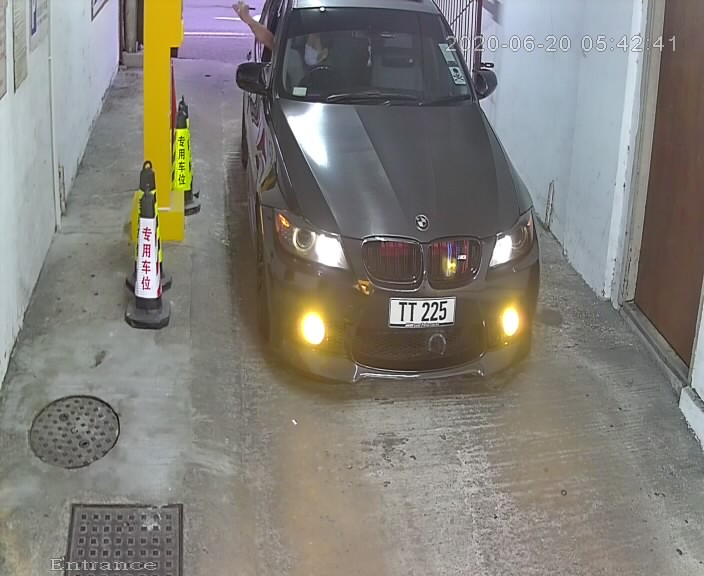privatecar: (221, 3, 539, 390)
